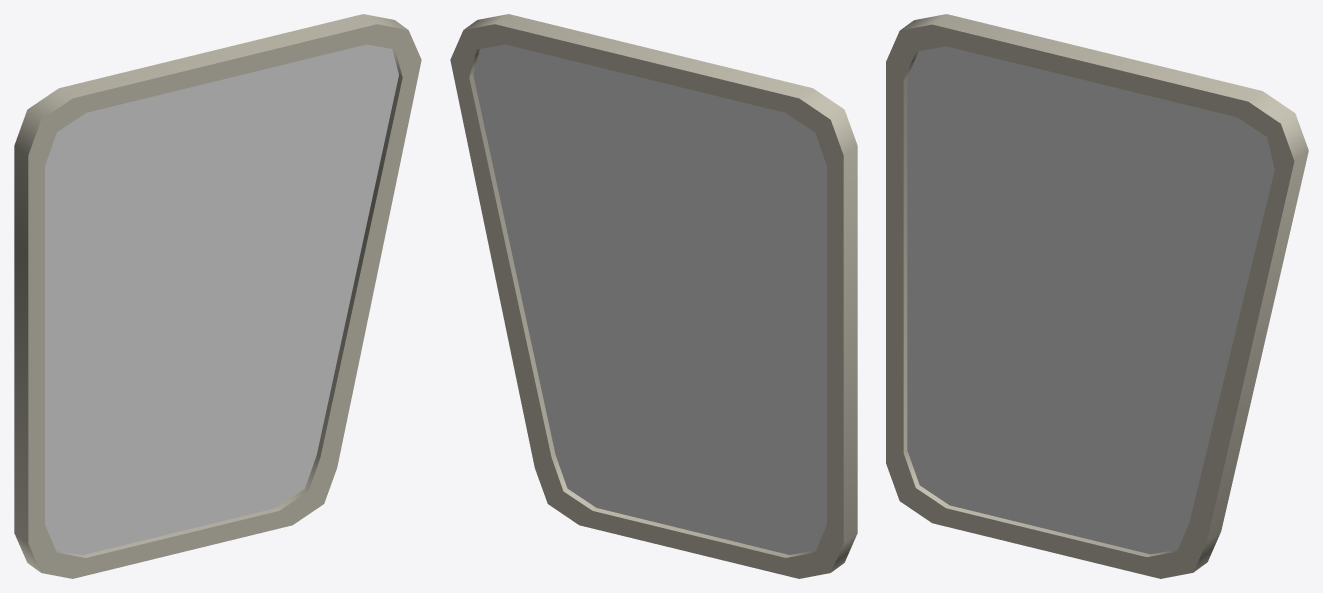
The model's file is Mirror_01.fbx.
3 views of the same model, side by side, from view 1: azimuth 30°, elevation 25°; view 2: azimuth 150°, elevation 25°; view 3: azimuth 330°, elevation 25° (orthographic). The views are drawn at different scales.
Visible parts, largest first — view 1: Mirror_01; view 2: Mirror_01; view 3: Mirror_01.
Part boxes in pixels (x1,y1,x2,y2): Mirror_01: (14,14,421,578); Mirror_01: (450,14,857,578); Mirror_01: (886,14,1308,578).
Bounding box in the file's own units: 0.5194 × 0.6061 × 0.0317.
